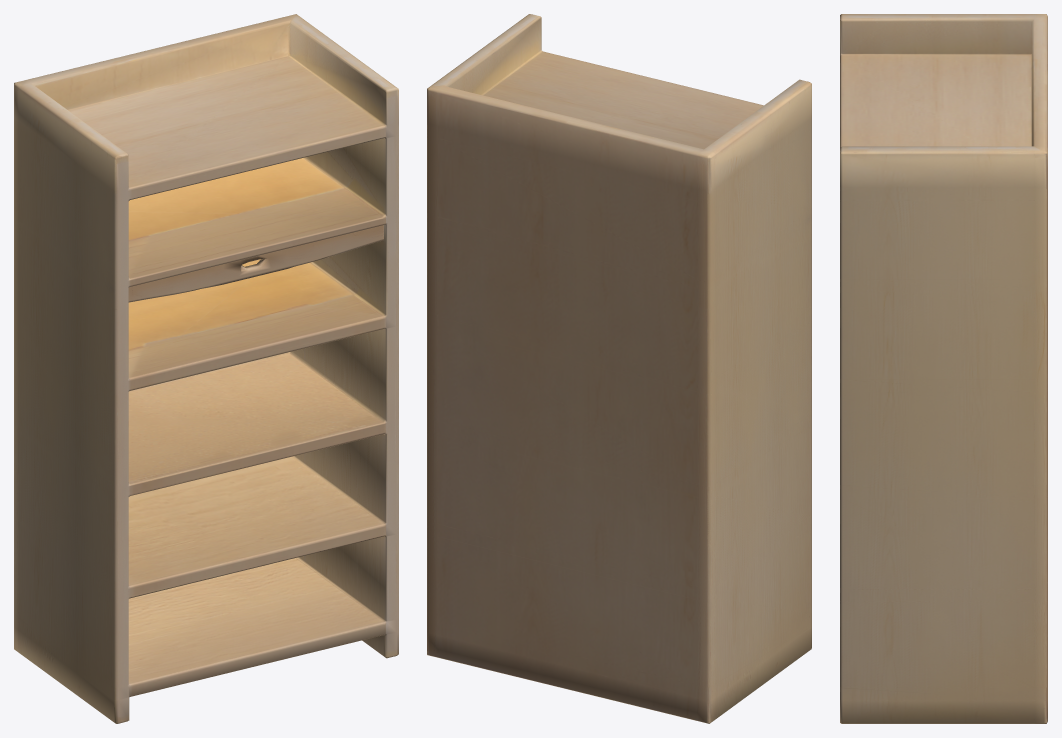
The model's file is Wooden_podium_0607154125_texture.glb.
3 views of the same model, side by side, from view 1: azimuth 30°, elevation 25°; view 2: azimuth 150°, elevation 25°; view 3: azimuth 270°, elevation 25° (orthographic).
Visible parts, largest first — view 1: Mesh_0; view 2: Mesh_0; view 3: Mesh_0.
Part boxes in pixels (x1,y1,x2,y2): Mesh_0: [14, 14, 398, 723]; Mesh_0: [427, 14, 811, 723]; Mesh_0: [840, 14, 1047, 723].
Size of the model in its own units: 0.5854 by 1.12 by 0.3673.
1 material, 1 textured.
